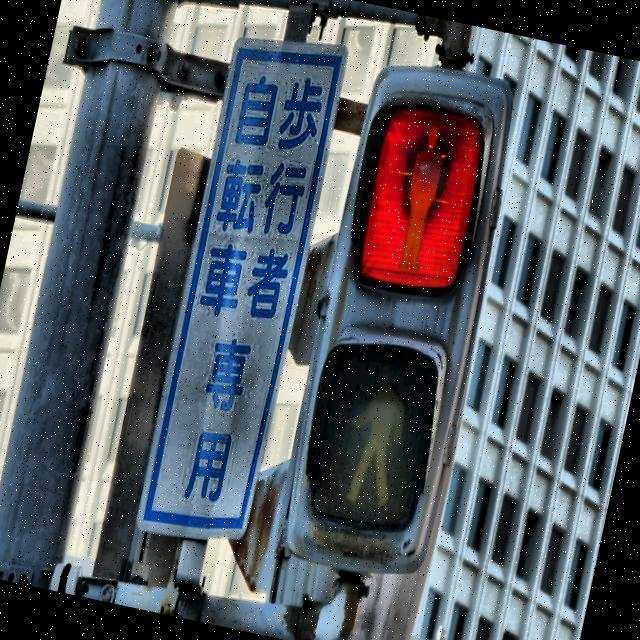red_light: (386, 118, 455, 277)
